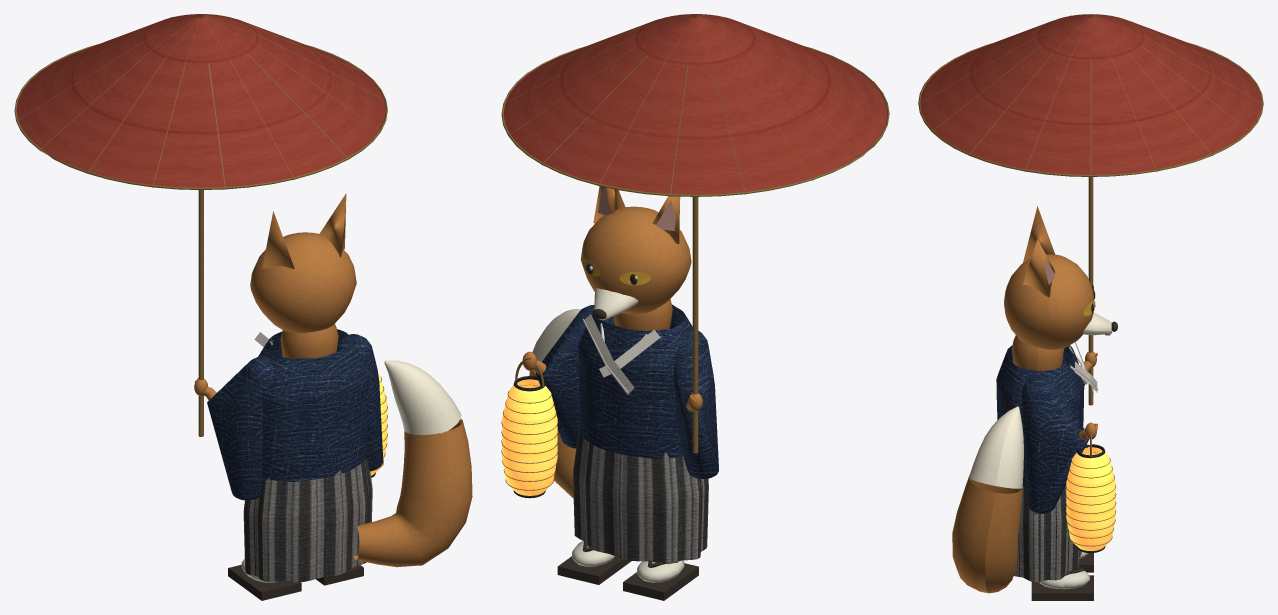
File: nyanisyarud-yokai-fox-escort.glb
3 views of the same model, side by side, from view 1: azimuth 30°, elevation 25°; view 2: azimuth 150°, elevation 25°; view 3: azimuth 270°, elevation 25° (orthographic). The views are drawn at different scales.
Parts seen in each view (by area): view 1: Gentle_Amber_Fox_Wedding_Attendant; view 2: Gentle_Amber_Fox_Wedding_Attendant; view 3: Gentle_Amber_Fox_Wedding_Attendant.
Boxes of the visible parts, left/top/right/bottom form: Gentle_Amber_Fox_Wedding_Attendant: left=14, top=14, right=472, bottom=600; Gentle_Amber_Fox_Wedding_Attendant: left=501, top=14, right=889, bottom=600; Gentle_Amber_Fox_Wedding_Attendant: left=918, top=14, right=1263, bottom=600.
Size of the model in its own units: 1.78 by 2.6 by 1.55.
2 materials, 2 textured.
